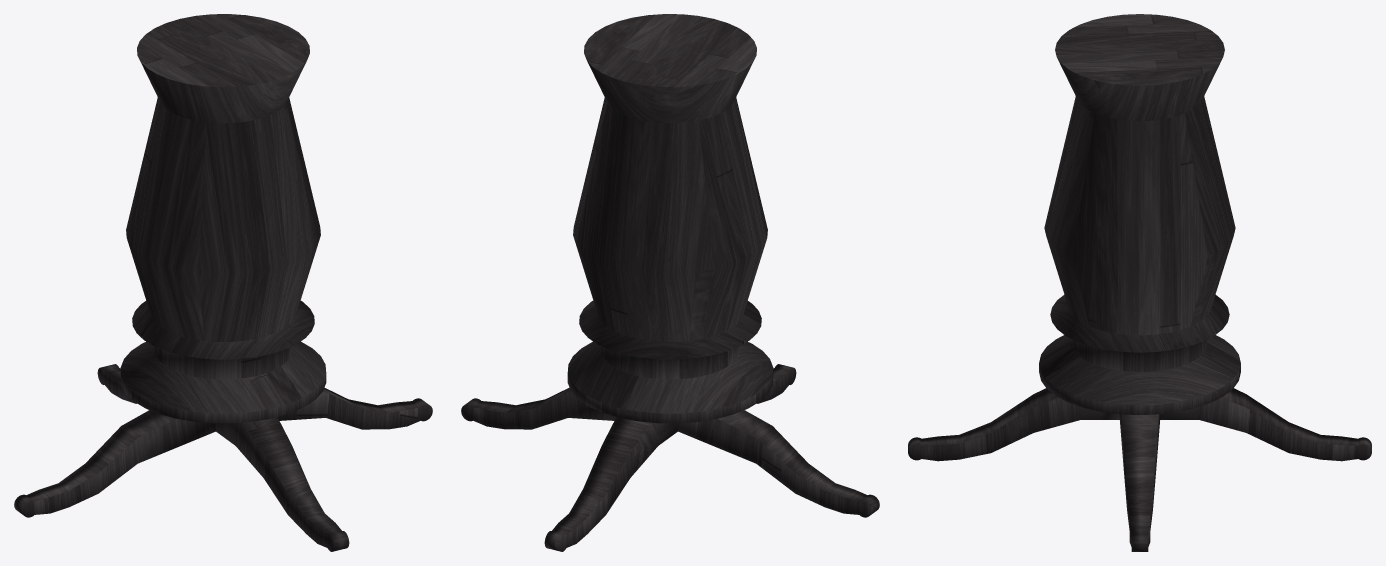
File: round_table.fbx
3 renders of one model, left to right at view 1: azimuth 30°, elevation 25°; view 2: azimuth 150°, elevation 25°; view 3: azimuth 270°, elevation 25°, orthographic. The views are drawn at different scales.
Parts seen in each view (by area): view 1: Table Legs; view 2: Table Legs; view 3: Table Legs.
Part boxes in pixels (x1,y1,x2,y2): Table Legs: (14,14,432,551); Table Legs: (461,14,879,551); Table Legs: (908,14,1371,551).
Bounding box in the file's own units: 2.18 × 2.11 × 2.18.
1 material, 1 textured.
